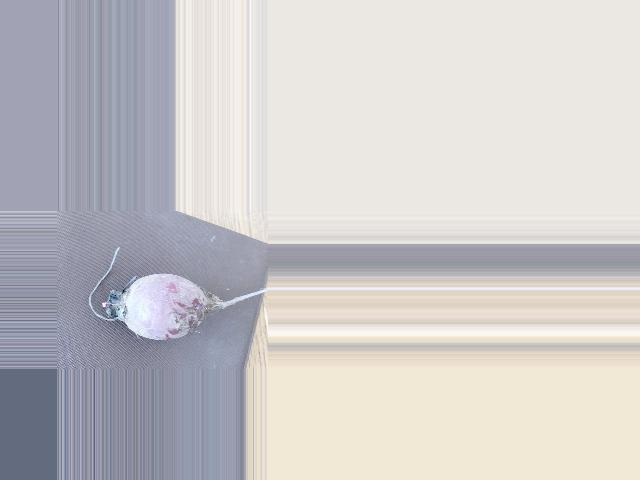beet: (89, 247, 269, 341)
